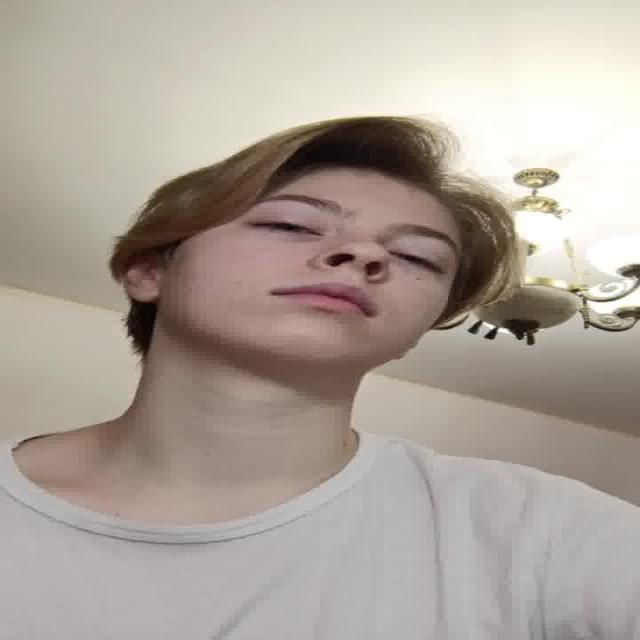earlobe: (126, 287, 164, 302)
eye: (389, 249, 452, 273), (250, 218, 326, 237)
nose: (315, 258, 381, 291)
wholeear: (121, 252, 164, 302)
